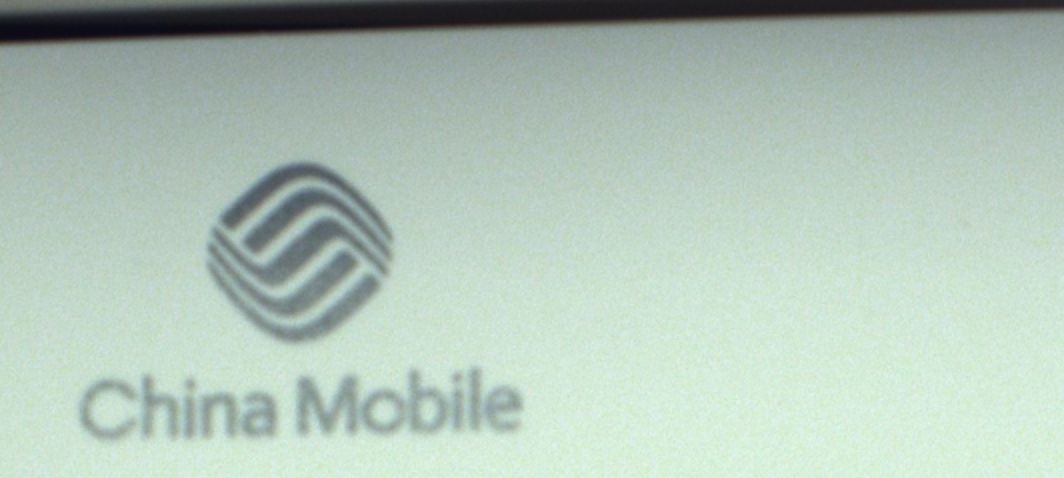AA_ChinaMobile: (60, 160, 530, 451)
